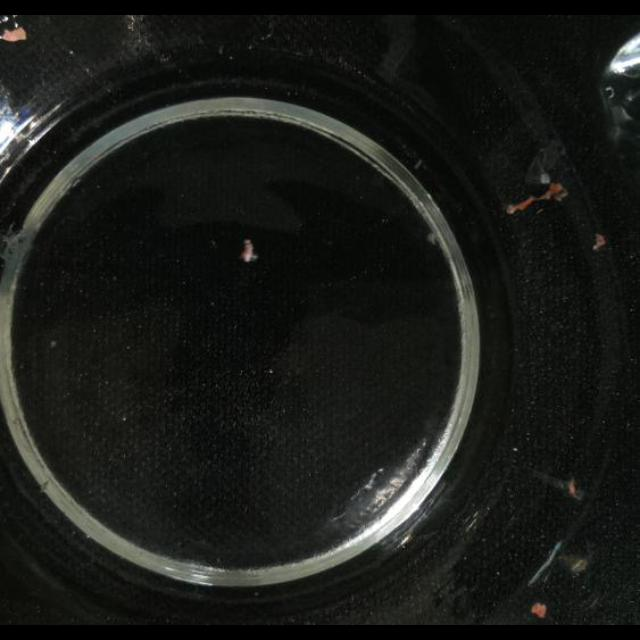Fragment: (501, 142, 579, 215), (0, 15, 38, 55), (240, 240, 258, 262), (568, 478, 582, 499), (531, 603, 547, 619), (592, 233, 606, 250)
